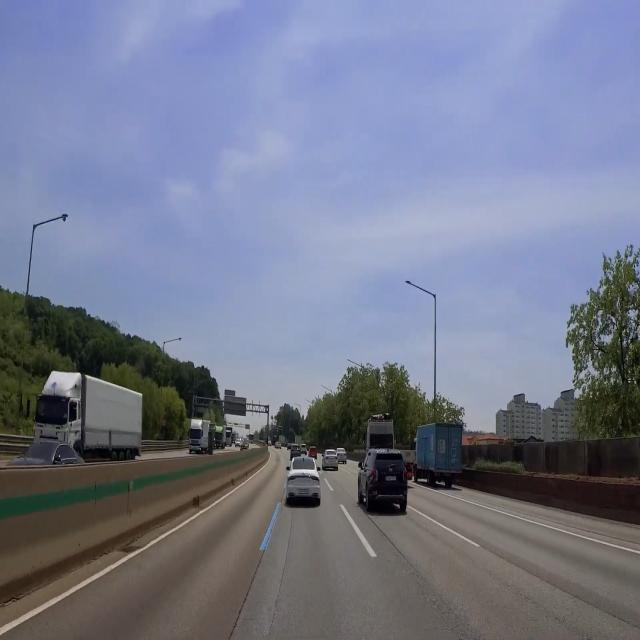car: (296, 486, 312, 502), (382, 475, 401, 486), (442, 467, 454, 478)
